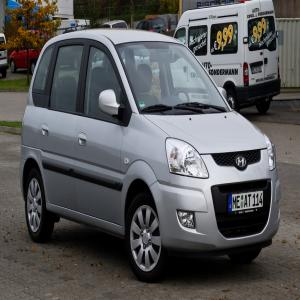Vehicle-registration-plate: (229, 191, 264, 213)
